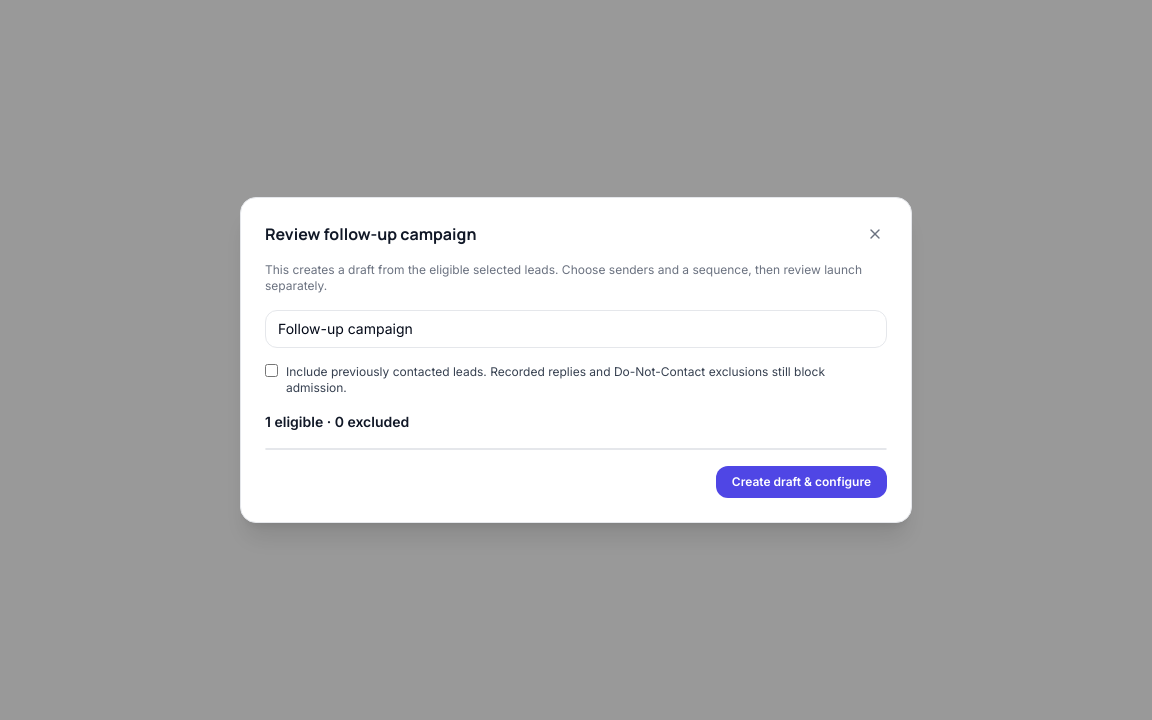
Test case: Canonical lead tags and reviewed draft controls › recovers the same unresolved request after closing and remounting
Later steps or results of the test are not shown.
Click the button "Create draft & configure": point(801, 482) [716,466,887,498]
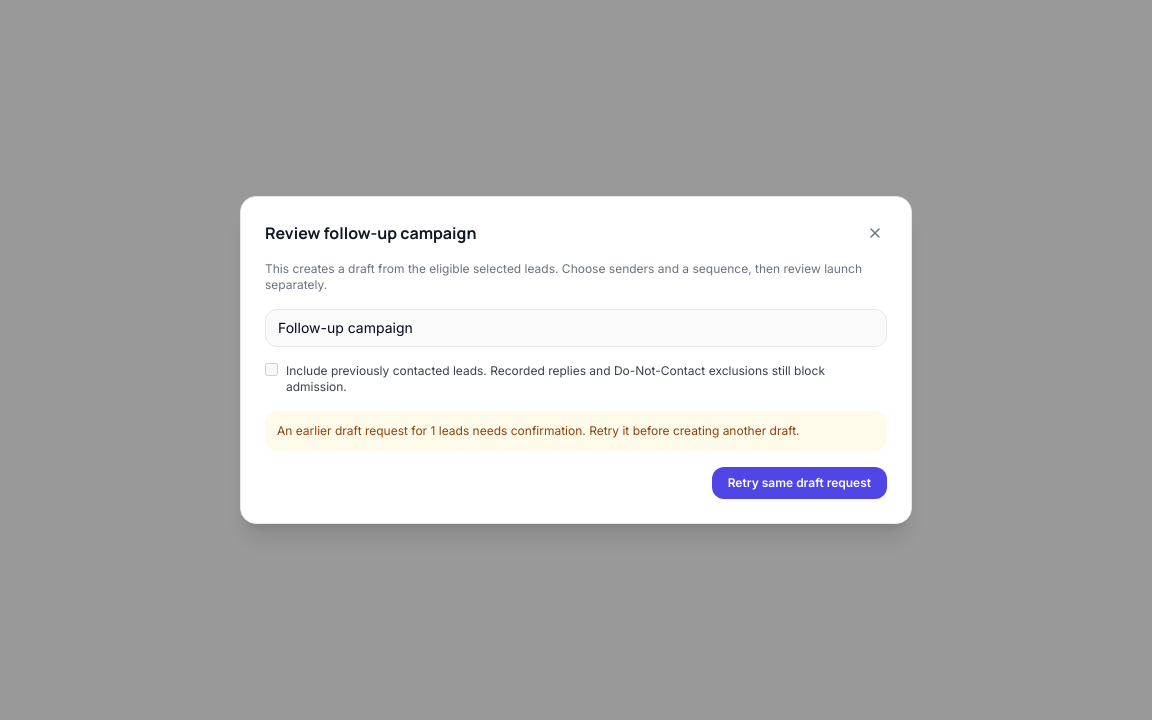
Now the text "An earlier draft request for 1 leads needs confirmation" is shown, box [265,411,887,451]
